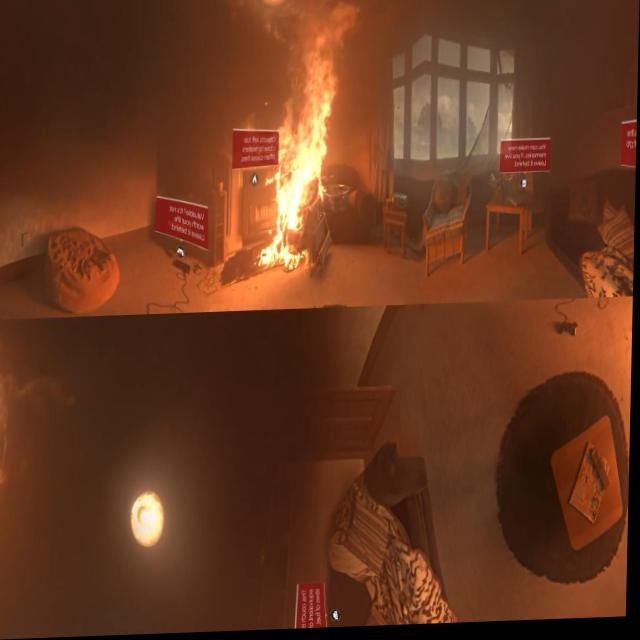fire: (258, 58, 343, 278)
